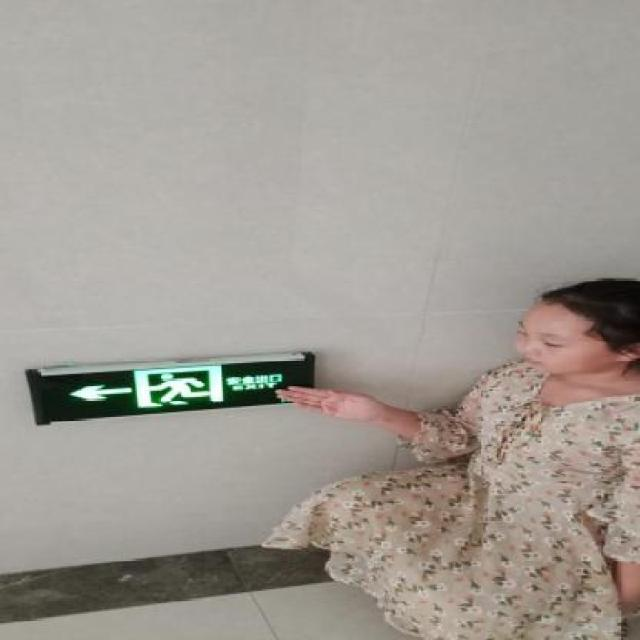exit_sign: (28, 349, 318, 430)
